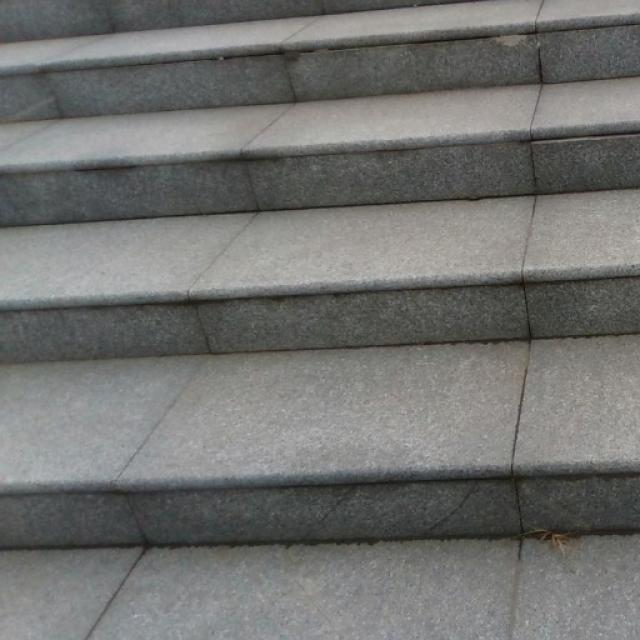Stairs: (0, 0, 639, 552)
